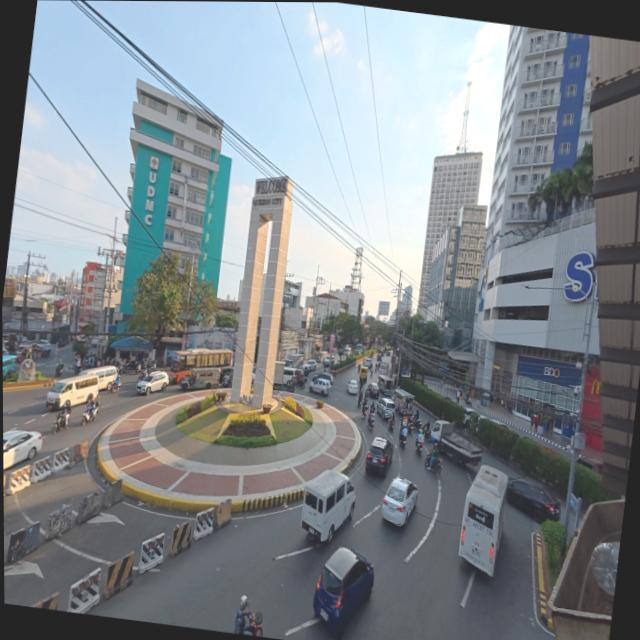car: (306, 538, 376, 640), (379, 474, 421, 529), (361, 433, 395, 476), (134, 369, 169, 398), (306, 373, 333, 396), (346, 379, 361, 396)
trucks: (420, 407, 490, 477)
